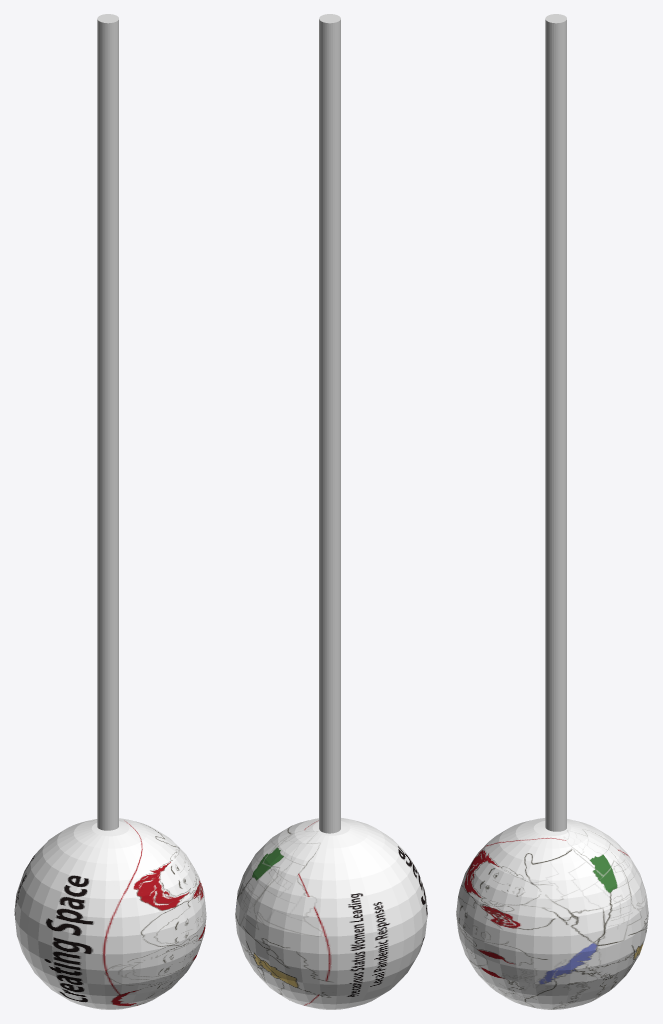
Rendered from mappin.glb.
3 views of the same model, side by side, from view 1: azimuth 30°, elevation 25°; view 2: azimuth 150°, elevation 25°; view 3: azimuth 270°, elevation 25° (orthographic).
Visible parts, largest first — view 1: Sphere, Cylinder; view 2: Sphere, Cylinder; view 3: Sphere, Cylinder.
Boxes of the visible parts, x1,y1,x2,y2 form: Sphere: (14,818,206,1009); Cylinder: (97,14,118,830); Sphere: (235,818,427,1009); Cylinder: (319,14,340,833); Sphere: (456,818,648,1009); Cylinder: (545,14,566,831).
Bounding box in the file's own units: 2 × 11.25 × 2.
1 material, 1 textured.
